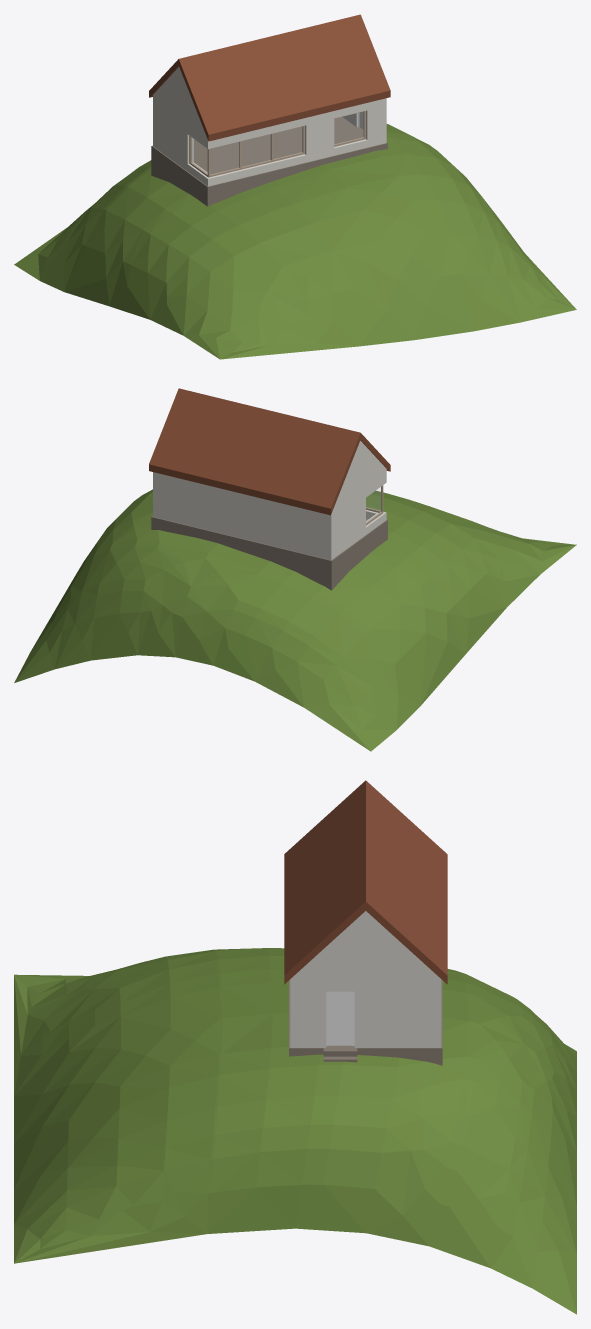
The picture shows the model from 3 angles, top to bottom: view 1: azimuth 30°, elevation 25°; view 2: azimuth 150°, elevation 25°; view 3: azimuth 270°, elevation 25°; orthographic projection. The views are drawn at different scales.
Visible parts, largest first — view 1: product-e5d29163-8bec-4dce-9941-ae9c18bbb3ee-facetation, product-94c8b935-0b3a-4a80-bcb8-234fef9d047c-body, product-a0125bff-5140-4bd7-9f9e-398b8a76bd1e-body, product-ea106fba-c8b5-46db-8aa1-a2217e8191b1-body, product-6be8e67c-41e3-41e7-a673-c050085c99da-body; view 2: product-e5d29163-8bec-4dce-9941-ae9c18bbb3ee-facetation, product-ef6769bd-4663-4cea-8ccf-b13ae3d3d274-body, product-fb79929f-6032-4f42-a5ee-31e6b4a444df-body, product-a0125bff-5140-4bd7-9f9e-398b8a76bd1e-body, product-6be8e67c-41e3-41e7-a673-c050085c99da-body; view 3: product-e5d29163-8bec-4dce-9941-ae9c18bbb3ee-facetation, product-ebe87d35-bb76-4abc-8b46-e83d14afa530-body, product-94c8b935-0b3a-4a80-bcb8-234fef9d047c-body, product-ef6769bd-4663-4cea-8ccf-b13ae3d3d274-body, product-a0125bff-5140-4bd7-9f9e-398b8a76bd1e-body, product-1db29fbf-e920-4fe8-aeb4-fd84f7084488-body, product-ea106fba-c8b5-46db-8aa1-a2217e8191b1-body, product-fb79929f-6032-4f42-a5ee-31e6b4a444df-body.
Part boxes in pixels (bbox=[...]): product-e5d29163-8bec-4dce-9941-ae9c18bbb3ee-facetation: bbox=[14, 124, 576, 359]; product-94c8b935-0b3a-4a80-bcb8-234fef9d047c-body: bbox=[178, 14, 390, 141]; product-a0125bff-5140-4bd7-9f9e-398b8a76bd1e-body: bbox=[151, 117, 387, 206]; product-ea106fba-c8b5-46db-8aa1-a2217e8191b1-body: bbox=[204, 98, 386, 186]; product-6be8e67c-41e3-41e7-a673-c050085c99da-body: bbox=[154, 67, 207, 183]; product-e5d29163-8bec-4dce-9941-ae9c18bbb3ee-facetation: bbox=[14, 489, 576, 751]; product-ef6769bd-4663-4cea-8ccf-b13ae3d3d274-body: bbox=[149, 388, 360, 515]; product-fb79929f-6032-4f42-a5ee-31e6b4a444df-body: bbox=[153, 472, 334, 560]; product-a0125bff-5140-4bd7-9f9e-398b8a76bd1e-body: bbox=[151, 516, 387, 590]; product-6be8e67c-41e3-41e7-a673-c050085c99da-body: bbox=[335, 441, 384, 557]; product-e5d29163-8bec-4dce-9941-ae9c18bbb3ee-facetation: bbox=[14, 948, 576, 1314]; product-ebe87d35-bb76-4abc-8b46-e83d14afa530-body: bbox=[295, 911, 436, 1047]; product-94c8b935-0b3a-4a80-bcb8-234fef9d047c-body: bbox=[284, 780, 365, 984]; product-ef6769bd-4663-4cea-8ccf-b13ae3d3d274-body: bbox=[366, 780, 447, 984]; product-a0125bff-5140-4bd7-9f9e-398b8a76bd1e-body: bbox=[289, 979, 442, 1065]; product-1db29fbf-e920-4fe8-aeb4-fd84f7084488-body: bbox=[326, 991, 354, 1045]; product-ea106fba-c8b5-46db-8aa1-a2217e8191b1-body: bbox=[290, 971, 300, 1047]; product-fb79929f-6032-4f42-a5ee-31e6b4a444df-body: bbox=[431, 971, 441, 1047].
Bounding box in the file's own units: 20 × 13.91 × 20.
